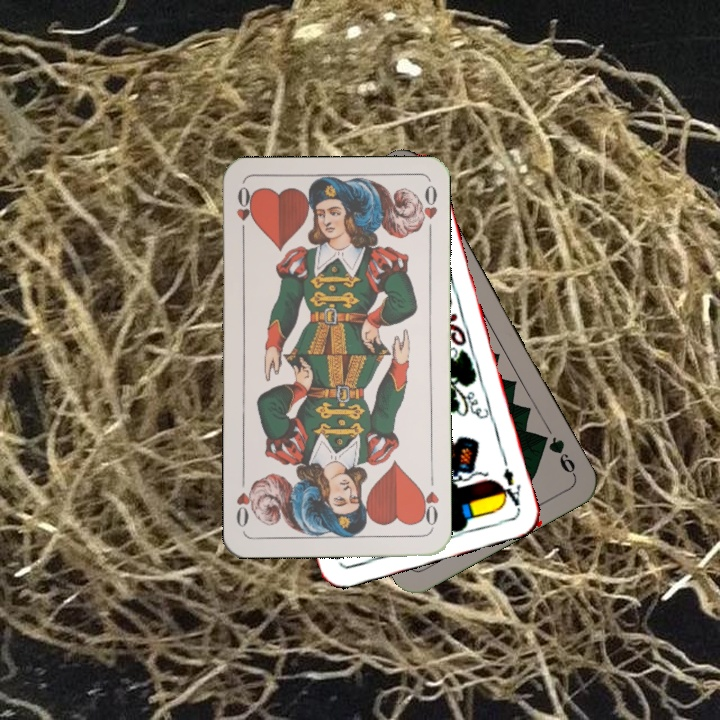EA: (494, 452, 523, 511)
G9: (535, 430, 579, 479)
HO: (416, 471, 442, 530), (233, 182, 256, 241)
